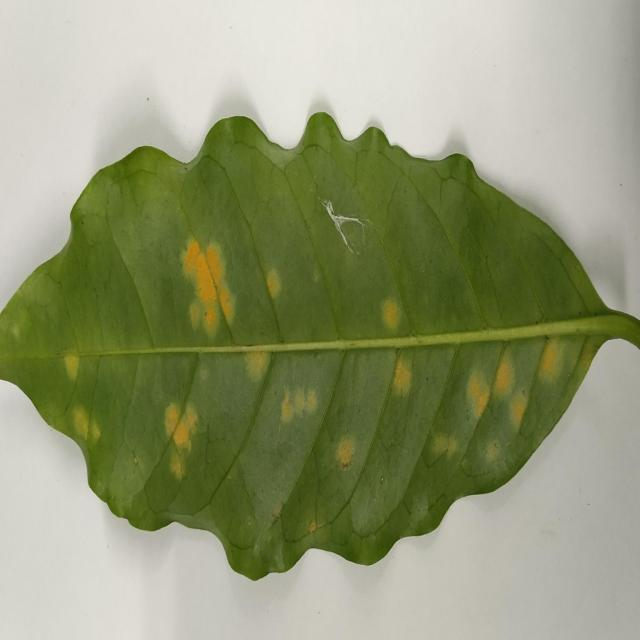rust: (182, 237, 235, 338), (266, 356, 324, 430), (496, 341, 538, 432), (63, 354, 100, 448), (164, 403, 198, 479), (537, 322, 569, 391), (466, 359, 496, 421), (389, 354, 422, 400), (263, 256, 290, 309), (235, 346, 272, 382), (381, 297, 411, 336), (337, 436, 364, 470)
